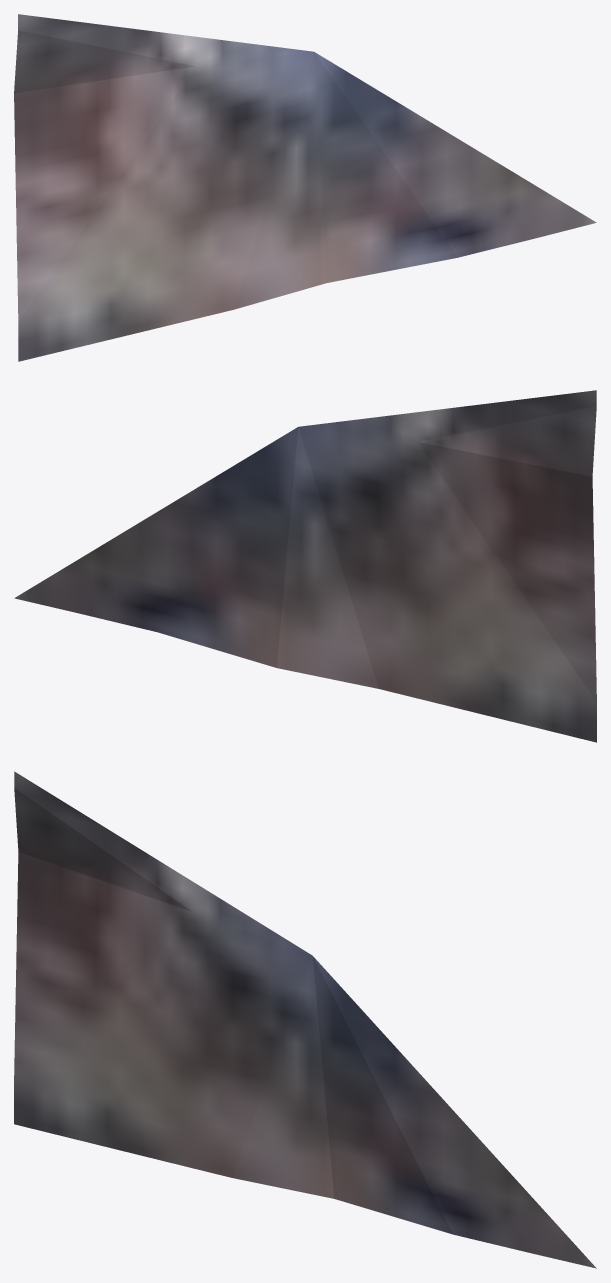
3 renders of one model, top to bottom at view 1: azimuth 30°, elevation 25°; view 2: azimuth 150°, elevation 25°; view 3: azimuth 330°, elevation 25°, orthographic.
Visible parts, largest first — view 1: 0_2_0_2_3; view 2: 0_2_0_2_3; view 3: 0_2_0_2_3.
Boxes of the visible parts, left/top/right/bottom form: 0_2_0_2_3: left=14, top=14, right=596, bottom=361; 0_2_0_2_3: left=14, top=390, right=596, bottom=742; 0_2_0_2_3: left=14, top=771, right=596, bottom=1268.
Bounding box in the file's own units: 51.32 × 29.56 × 1.16.
Materials: 1 (1 with a texture image).
